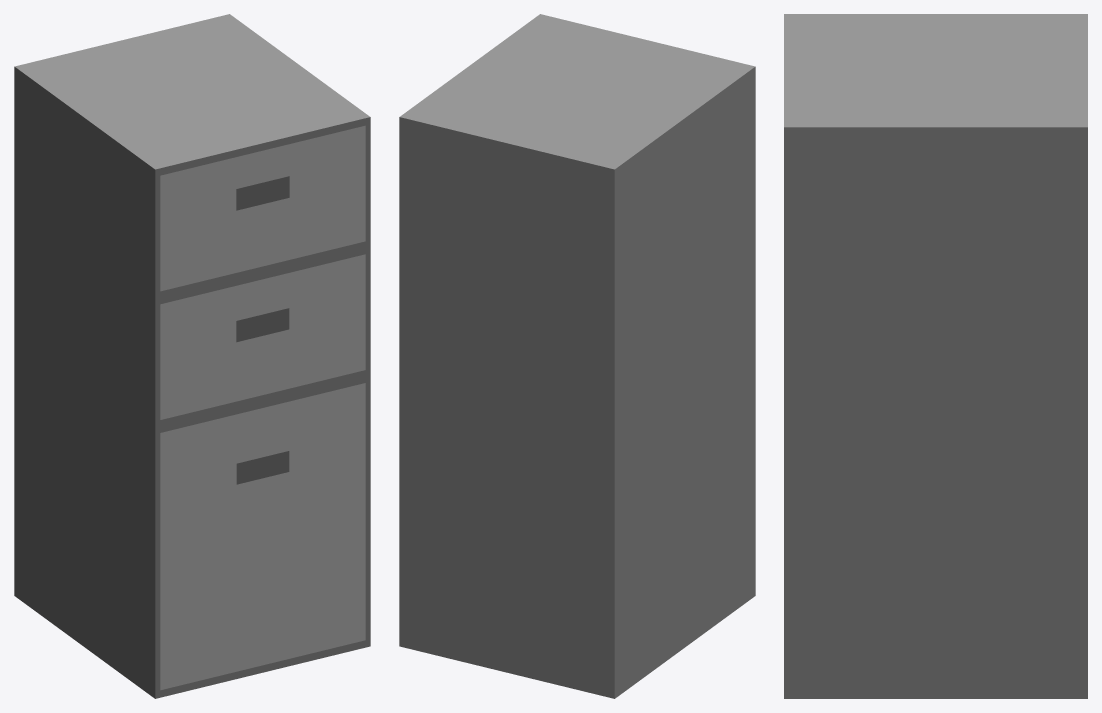
The model's file is SO_FileCabinet_02.fbx.
The picture shows the model from 3 angles, left to right: view 1: azimuth 30°, elevation 25°; view 2: azimuth 150°, elevation 25°; view 3: azimuth 270°, elevation 25°; orthographic projection. The views are drawn at different scales.
Parts seen in each view (by area): view 1: SO_FileCabinet_02; view 2: SO_FileCabinet_02; view 3: SO_FileCabinet_02.
Boxes of the visible parts, x1,y1,x2,y2 form: SO_FileCabinet_02: [14, 14, 370, 698]; SO_FileCabinet_02: [399, 14, 755, 698]; SO_FileCabinet_02: [784, 14, 1087, 698].
Bounding box in the file's own units: 1.1 × 2.58 × 1.24.
